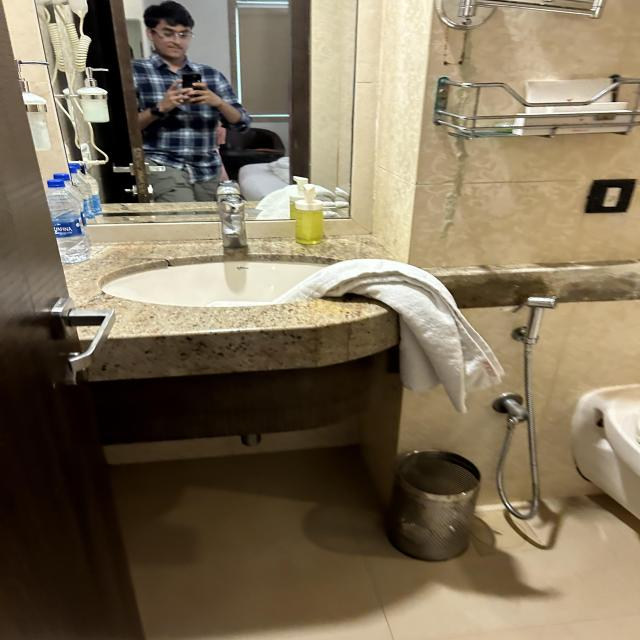mess: (40, 182, 475, 423)
